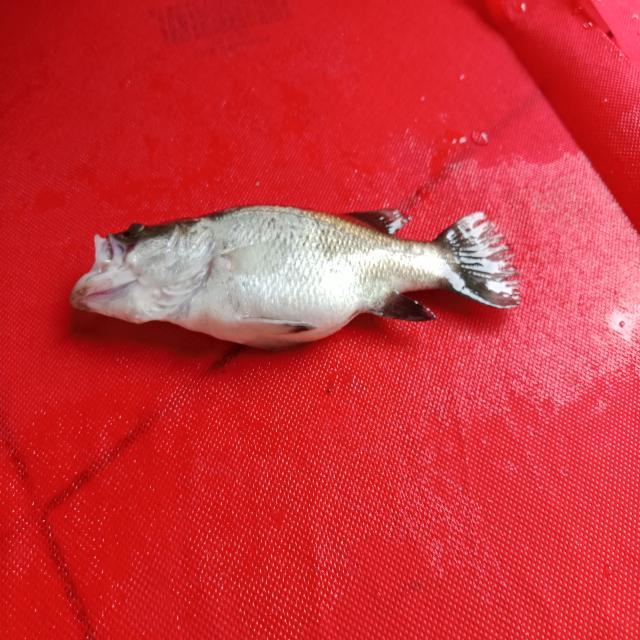ikan: (63, 175, 536, 373)
